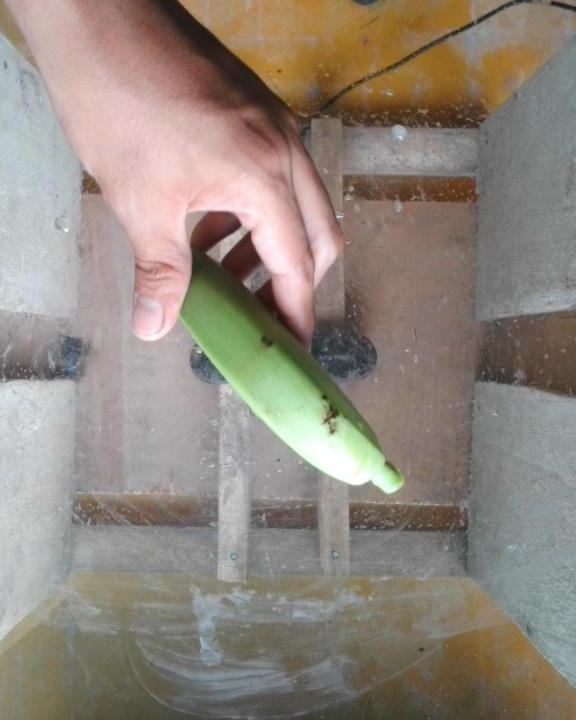CLASS B: (167, 242, 422, 515)
Class A: (303, 382, 362, 442), (242, 328, 282, 358)
